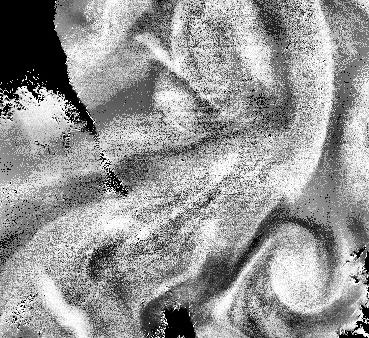CE: (247, 206, 342, 320)
